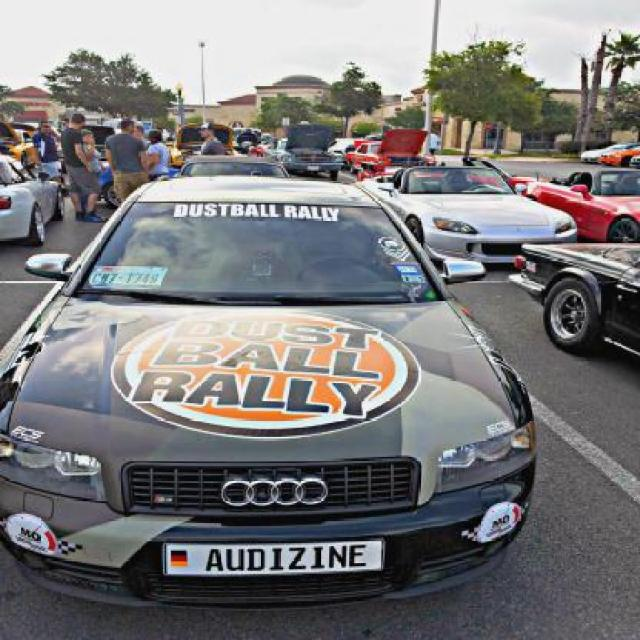License-Plates: (160, 536, 387, 576)
